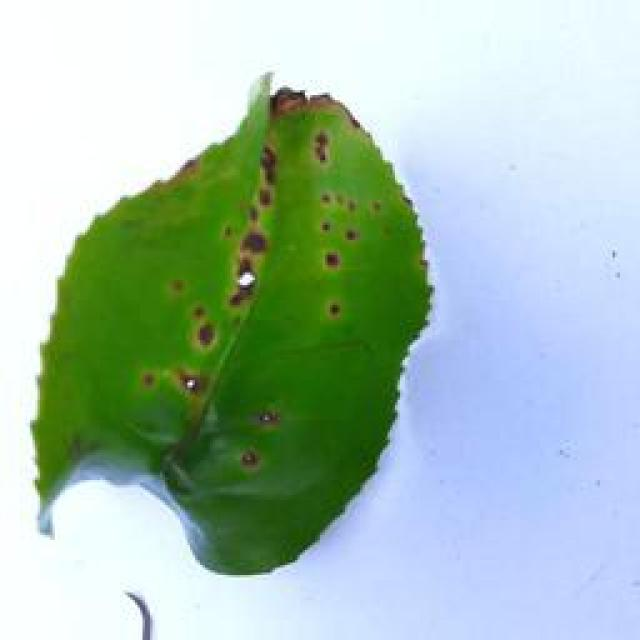Helopeltis: (38, 68, 430, 579)
